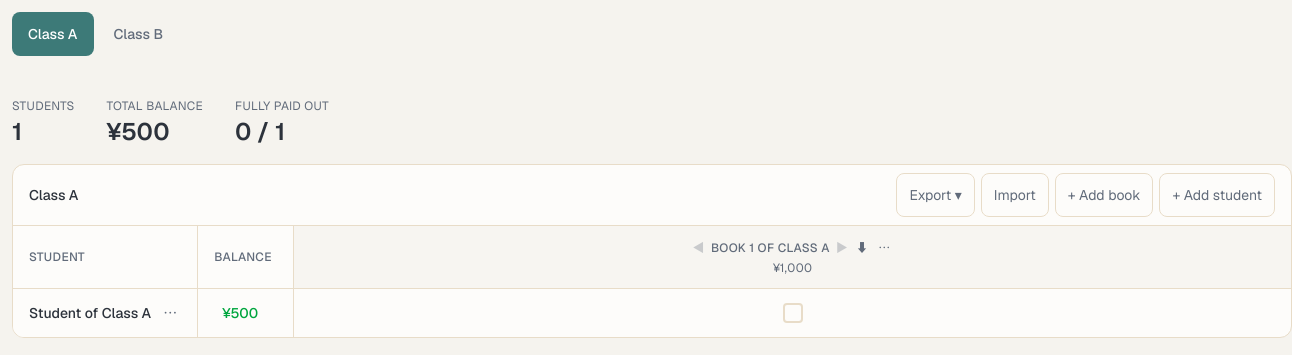
Test: DashboardClient › switching tabs shows the new group content immediately
Click Class B tab
Click the button "Class B": (138, 34) [98,12,179,56]
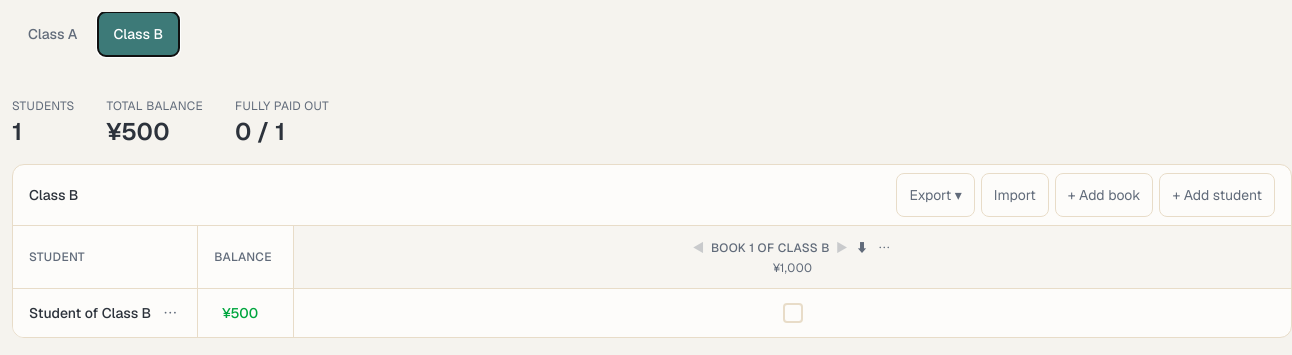
Expected: no buttons "Student of Class A" are shown
